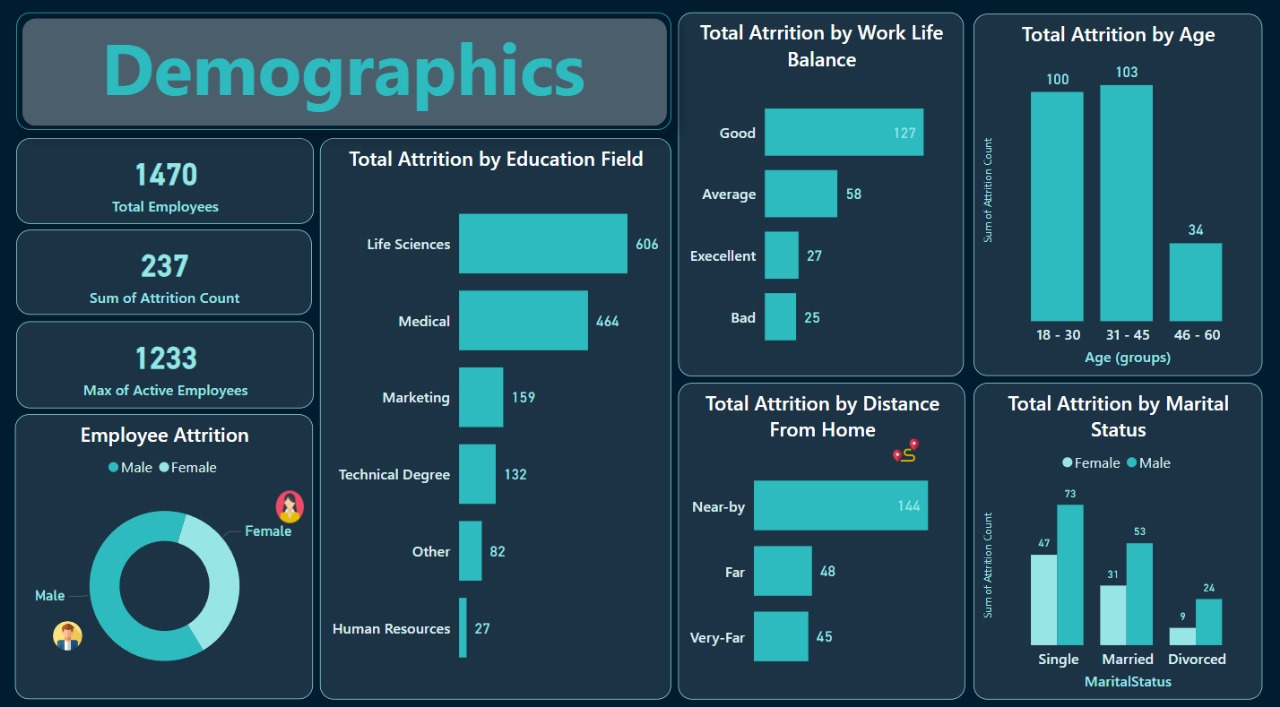

The dashboard page shown, as its layout file describes it:
{"tool":"powerbi","page":{"name":"Demographics","canvas":[1280,720],"ordinal":1},"visuals":[{"type":"donutChart","title":"Employee Attrition","fields":{"Y":["Sum(HR-Employee-Attrition.Attrition Count)"],"Category":["HR-Employee-Attrition.Gender"]},"box":[9,421,301,288],"z":0},{"type":"barChart","title":"Total Attrition by Education Field","fields":{"Category":["HR-Employee-Attrition.EducationField"],"Y":["CountNonNull(HR-Employee-Attrition.Attrition)"]},"box":[317.7,142.2,354.6,567],"z":1000},{"type":"image","box":[42.3,614.6,40,61.5],"z":2000},{"type":"clusteredBarChart","title":"Total Atrrition by Work Life Balance","fields":{"Category":["HR-Employee-Attrition.WorkLifeBalance (groups)"],"Y":["Sum(HR-Employee-Attrition.Attrition Count)"]},"box":[680,15.4,288.5,367.7],"z":3000},{"type":"image","box":[267.7,492.3,38.5,43.1],"z":4000},{"type":"barChart","title":"Total Attrition by Distance From Home","fields":{"Category":["HR-Employee-Attrition.DistanceFromHome (groups)"],"Y":["Sum(HR-Employee-Attrition.Attrition Count)"]},"box":[680,390,290,320],"z":5000},{"type":"image","box":[886.3,439.5,45.8,36.6],"z":6000},{"type":"columnChart","title":"Total Attrition by Age","fields":{"Category":["HR-Employee-Attrition.Age (groups)"],"Y":["Sum(HR-Employee-Attrition.Attrition Count)"]},"box":[977.1,17.1,291.4,365.7],"z":7000},{"type":"clusteredColumnChart","title":"Total Attrition by Marital Status ","fields":{"Category":["HR-Employee-Attrition.MaritalStatus"],"Y":["Sum(HR-Employee-Attrition.Attrition Count)"],"Series":["HR-Employee-Attrition.Gender"]},"box":[977.1,390,291.4,320],"z":8000},{"type":"card","fields":{"Values":["Sum(HR-Employee-Attrition.EmployeeCount)"]},"box":[10.9,141.8,300,86.4],"z":9000},{"type":"card","fields":{"Values":["Sum(HR-Employee-Attrition.Attrition Count)"]},"box":[11,234.4,298.5,86.1],"z":10000},{"type":"card","fields":{"Values":["Max(HR-Employee-Attrition.Active Employees)"]},"box":[11,327.8,300.3,87.9],"z":11000},{"type":"shape","box":[11.1,15.6,661.1,118.9],"z":12000},{"type":"textbox","box":[9.2,14.6,662.9,119],"z":13000}]}

Visuals, with their boxes in screenshot pixels (x1, y1, x2, y2), scaled from the page's 1280x720 canvas onto the 1280x707 screenshot:
"Employee Attrition" donutChart: 9/413/310/696
"Total Attrition by Education Field" barChart: 318/140/672/696
image: 42/604/82/664
"Total Atrrition by Work Life Balance" clusteredBarChart: 680/15/968/376
image: 268/483/306/526
"Total Attrition by Distance From Home" barChart: 680/383/970/697
image: 886/432/932/468
"Total Attrition by Age" columnChart: 977/17/1268/376
"Total Attrition by Marital Status " clusteredColumnChart: 977/383/1268/697
card - Sum(HR-Employee-Attrition.EmployeeCount): 11/139/311/224
card - Sum(HR-Employee-Attrition.Attrition Count): 11/230/310/315
card - Max(HR-Employee-Attrition.Active Employees): 11/322/311/408
shape: 11/15/672/132
textbox: 9/14/672/131
